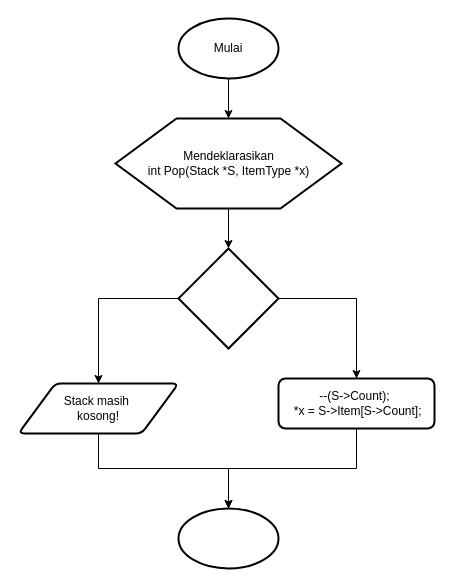
Image size: 452x586. Some labels were removed from this diagram. The shapes that lost their labels are listed below. From the top down, each one's centre as x and y in pixels, then its label:
(x=228, y=298): S->Count==0
(x=228, y=538): Selesai
